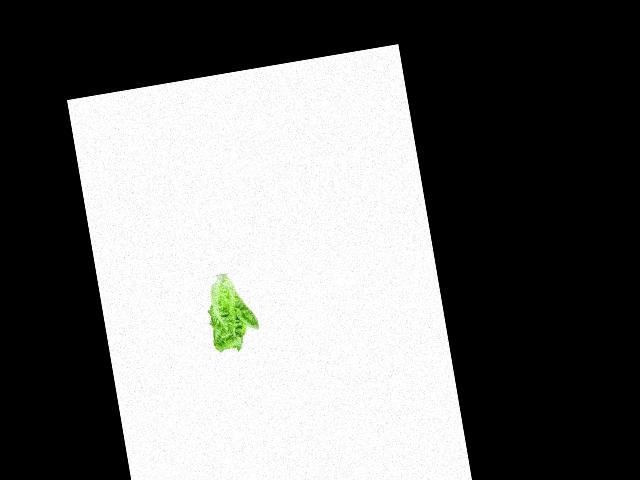lettuce: (199, 272, 263, 356)
